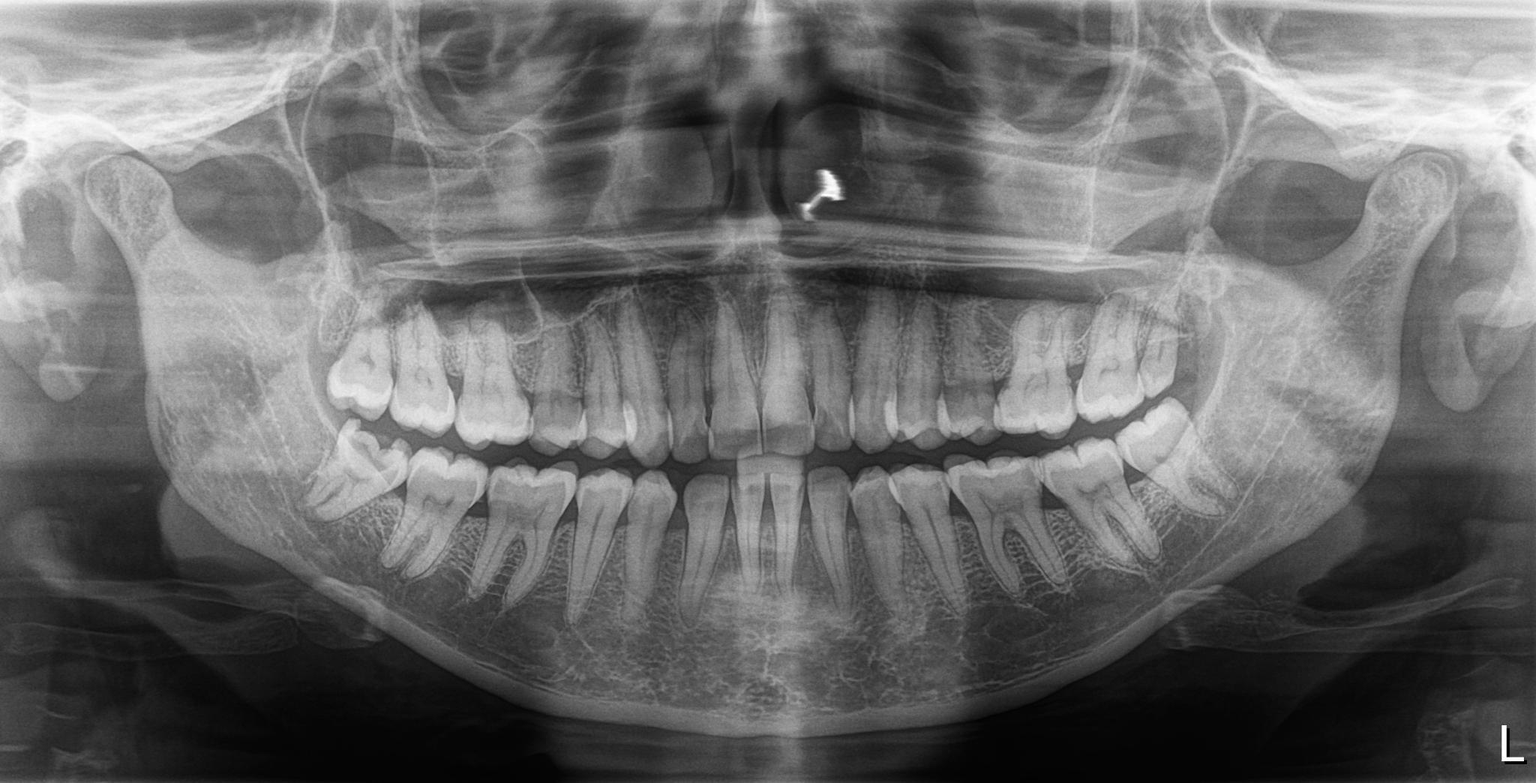Impacted Third Molar: (1125, 424, 1249, 509), (328, 426, 407, 513)
